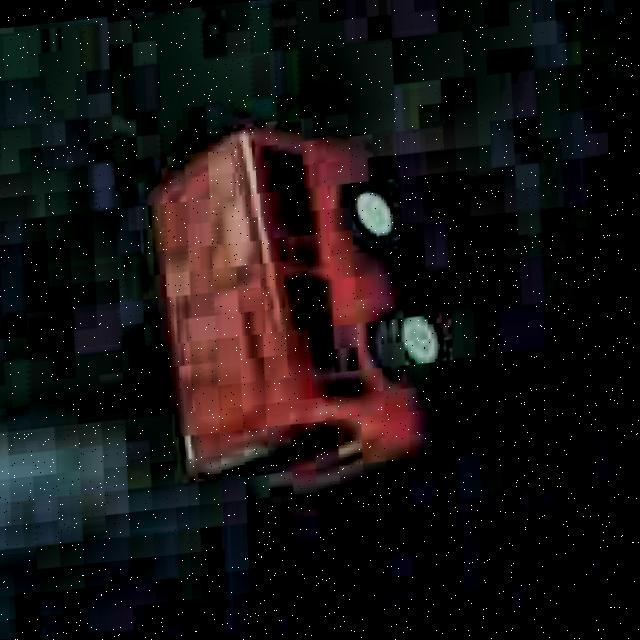bus: (105, 86, 500, 522)
